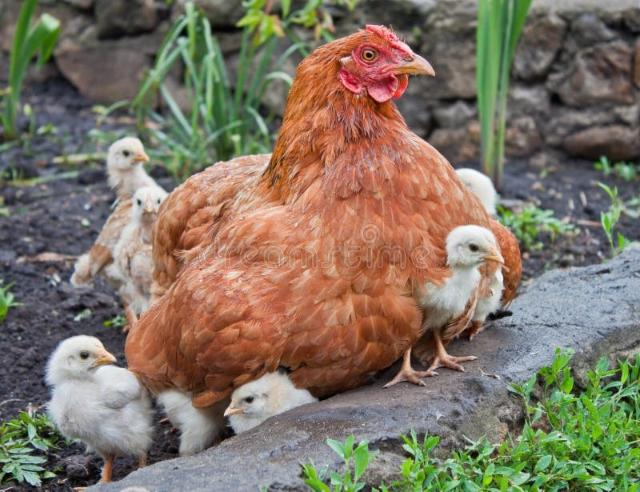Chicken: (127, 22, 524, 400)
